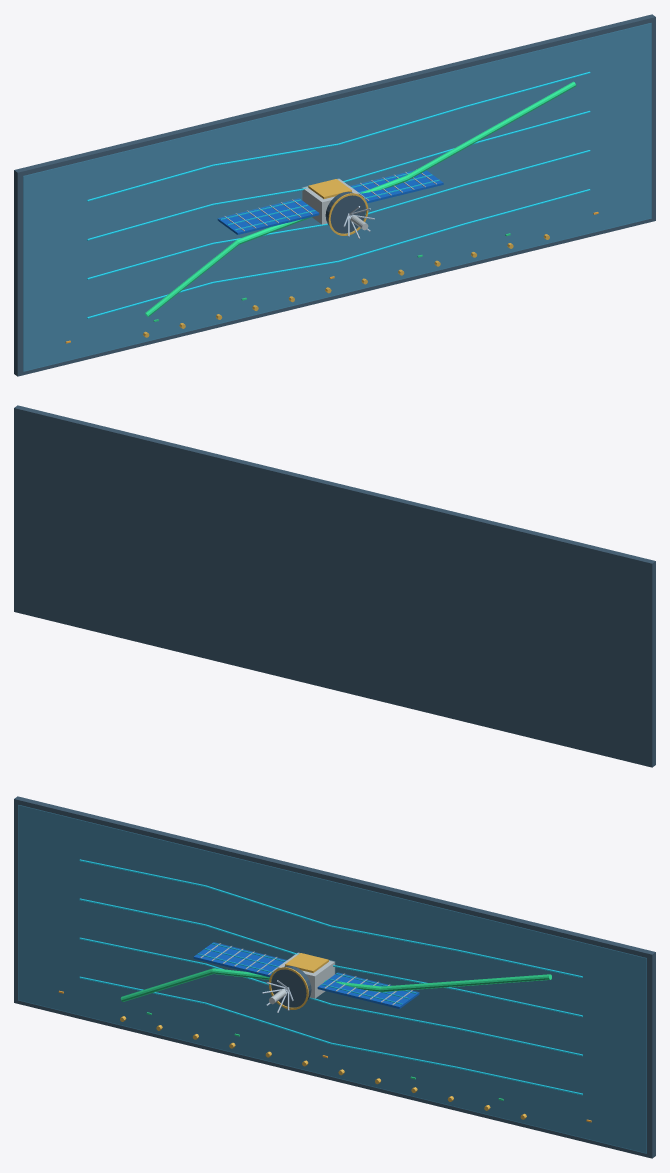
The model's file is 05_L81_HolographicDeepSpaceMissionDisplay.fbx.
The picture shows the model from 3 angles, top to bottom: view 1: azimuth 30°, elevation 25°; view 2: azimuth 150°, elevation 25°; view 3: azimuth 330°, elevation 25°; orthographic projection.
Parts seen in each view (by area): view 1: HolographicDeepSpaceMissionDisplay; view 2: HolographicDeepSpaceMissionDisplay; view 3: HolographicDeepSpaceMissionDisplay.
Boxes of the visible parts, x1,y1,x2,y2 form: HolographicDeepSpaceMissionDisplay: [14, 14, 655, 376]; HolographicDeepSpaceMissionDisplay: [14, 405, 655, 767]; HolographicDeepSpaceMissionDisplay: [14, 796, 655, 1158].
Size of the model in its own units: 701 by 214 by 92.15.
